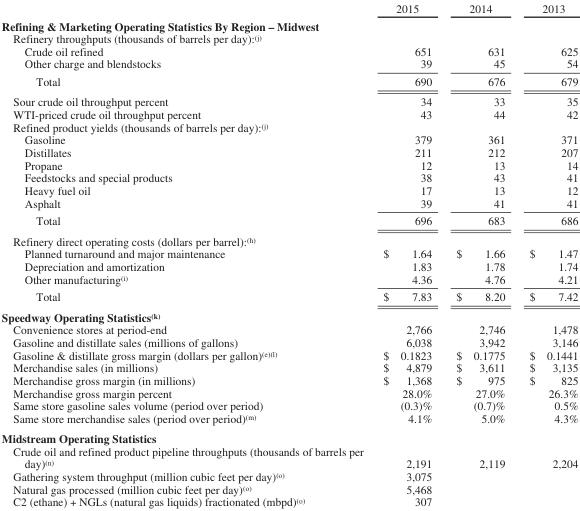table: (0, 1, 577, 507)
table column: (0, 1, 372, 507), (443, 1, 516, 507), (372, 1, 443, 507), (516, 1, 577, 507)
table column header: (0, 1, 577, 16)
table projected row header: (0, 230, 577, 247), (0, 306, 577, 323), (0, 427, 577, 444), (0, 16, 577, 31), (0, 31, 577, 44), (0, 120, 577, 133)
table row: (0, 444, 577, 469), (0, 72, 577, 91), (0, 211, 577, 230), (0, 287, 577, 306), (0, 230, 577, 247), (0, 306, 577, 323), (0, 427, 577, 444), (0, 91, 577, 107), (0, 411, 577, 427), (0, 1, 577, 16), (0, 16, 577, 31), (0, 57, 577, 72), (0, 196, 577, 211), (0, 272, 577, 287), (0, 31, 577, 44), (0, 44, 577, 57), (0, 107, 577, 120), (0, 120, 577, 133), (0, 145, 577, 158), (0, 158, 577, 171), (0, 183, 577, 196), (0, 259, 577, 272), (0, 335, 577, 348), (0, 348, 577, 361), (0, 373, 577, 386), (0, 398, 577, 411), (0, 469, 577, 482), (0, 482, 577, 495), (0, 133, 577, 145), (0, 171, 577, 183), (0, 247, 577, 259), (0, 323, 577, 335), (0, 361, 577, 373), (0, 386, 577, 398), (0, 495, 577, 507)
